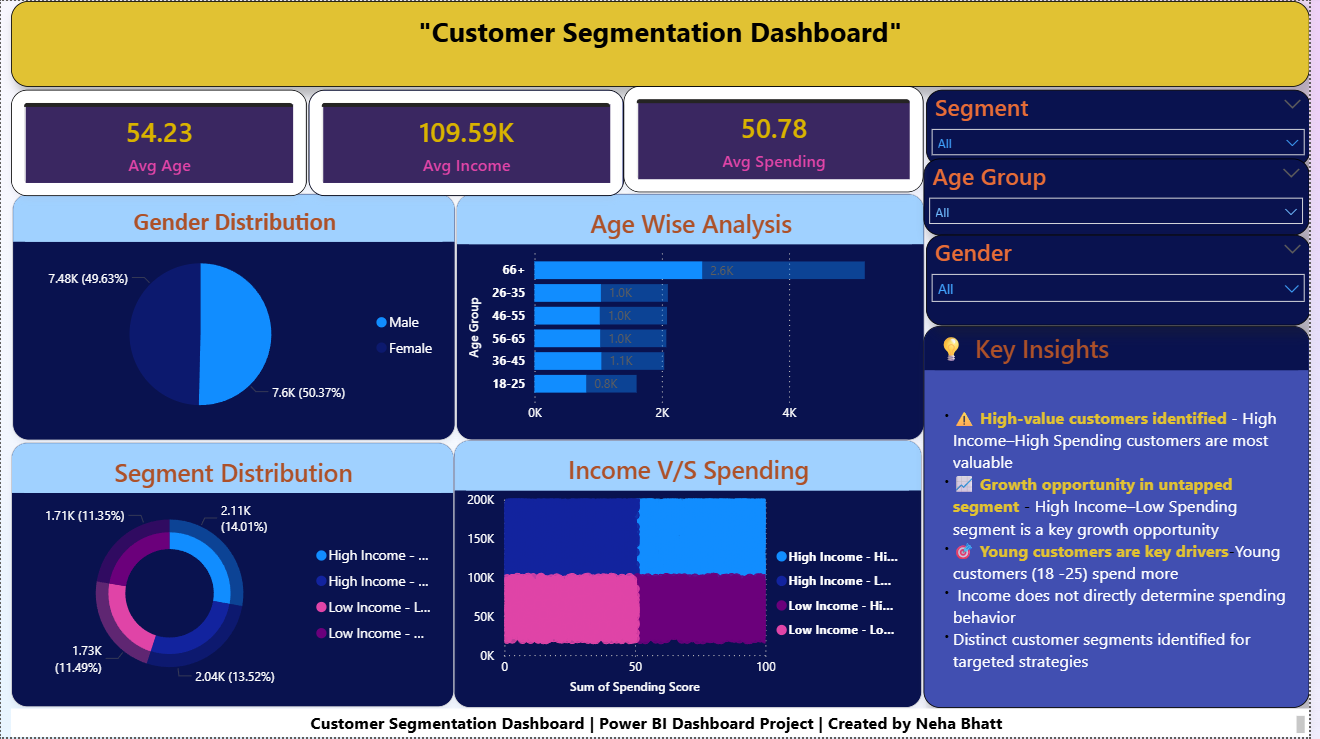

What the dashboard file says about the page in this screenshot:
{"tool":"powerbi","page":{"name":"Customer Segmentation Dashboard","canvas":[1280,720],"ordinal":0},"visuals":[{"type":"textbox","box":[9.6,0,1270.7,83.7],"z":0},{"type":"pieChart","title":" Gender Distribution","fields":{"Category":["Mall_Customers.Gender"],"Y":["CountNonNull(Mall_Customers.Customer ID)"]},"box":[11,188,433.6,241.5],"z":1000},{"type":"clusteredBarChart","title":" Age Wise Analysis","fields":{"Category":["Mall_Customers.Age Group"],"Y":["CountNonNull(Mall_Customers.Customer ID)"]},"box":[444.6,188,458.3,241.5],"z":2000},{"type":"slicer","fields":{"Values":["Mall_Customers.Segment"]},"box":[904.3,86.4,376,75.5],"z":3000},{"type":"slicer","fields":{"Values":["Mall_Customers.Age Group"]},"box":[902.9,153.7,377.4,75.5],"z":4000},{"type":"scatterChart","title":"Income V/S Spending","fields":{"Y":["Sum(Mall_Customers.Annual Income)"],"X":["Sum(Mall_Customers.Spending Score)"],"Series":["Mall_Customers.Segment"],"Category":["Mall_Customers.Customer ID"]},"box":[443.2,429.5,458.3,262.1],"z":5000},{"type":"donutChart","title":" Segment Distribution","fields":{"Category":["Mall_Customers.Segment"],"Y":["CountNonNull(Mall_Customers.Customer ID)"]},"box":[9.6,432.2,433.6,259.3],"z":6000},{"type":"textbox","title":"💡 Key Insights","box":[902.9,318.4,377.4,373.2],"z":7000},{"type":"cardVisual","title":"Average age","fields":{"Data":["Mall_Customers.Avg Age"]},"box":[9.6,86.4,289.5,104.3],"z":8000},{"type":"cardVisual","fields":{"Data":["Mall_Customers.Avg Income"]},"box":[300.5,86.4,308.7,104.3],"z":9000},{"type":"cardVisual","fields":{"Data":["Mall_Customers.Avg Spending"]},"box":[609.3,83.7,293.7,104.3],"z":10000},{"type":"slicer","fields":{"Values":["Mall_Customers.Gender"]},"box":[904.3,229.2,376,89.2],"z":11000},{"type":"textbox","box":[9.6,691.6,1270.7,28.8],"z":11001}]}

Visuals, with their boxes in screenshot pixels (x1, y1, x2, y2), scaled from the page's 1280x720 canvas onto the 1320x739 screenshot:
textbox: 10:0:1319:86
" Gender Distribution" pieChart: 11:193:458:441
" Age Wise Analysis" clusteredBarChart: 458:193:931:441
slicer - Mall_Customers.Segment: 933:89:1319:166
slicer - Mall_Customers.Age Group: 931:158:1319:235
"Income V/S Spending" scatterChart: 457:441:930:710
" Segment Distribution" donutChart: 10:444:457:710
"💡 Key Insights" textbox: 931:327:1319:710
"Average age" cardVisual: 10:89:308:196
cardVisual - Mall_Customers.Avg Income: 310:89:628:196
cardVisual - Mall_Customers.Avg Spending: 628:86:931:193
slicer - Mall_Customers.Gender: 933:235:1319:327
textbox: 10:710:1319:738
